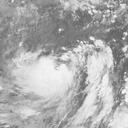cyclone: (10, 51, 73, 103)
